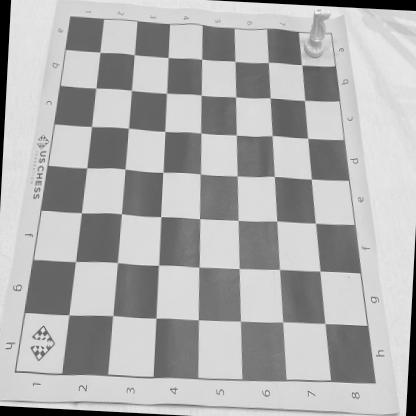knight: (302, 6, 331, 60)
